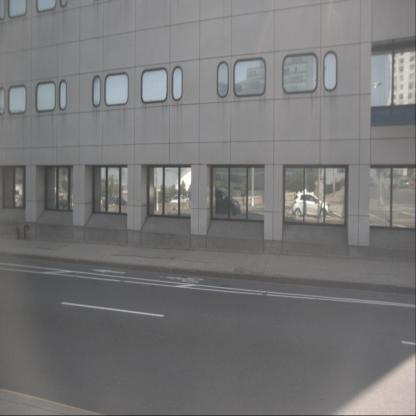vehicle-car: (292, 191, 329, 219), (205, 188, 241, 216), (108, 196, 127, 210), (170, 195, 186, 208)
